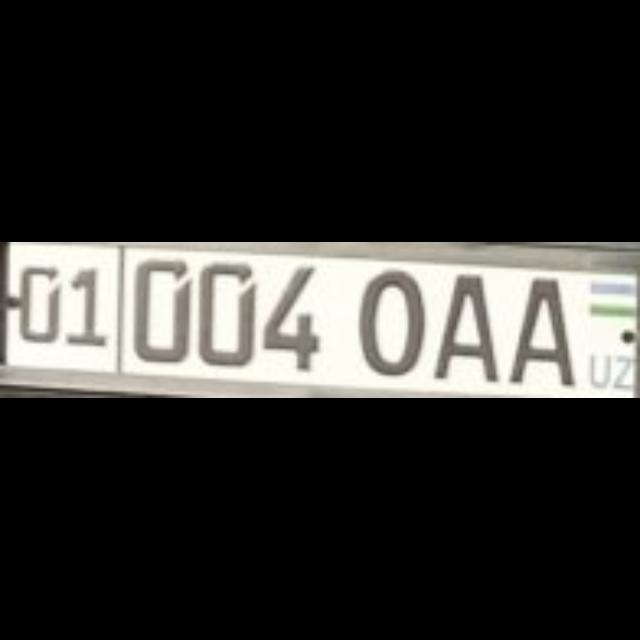0: (192, 259, 252, 363), (128, 256, 186, 356), (13, 262, 55, 340)
1: (62, 262, 101, 340)
4: (258, 261, 316, 369)
A: (502, 272, 572, 382), (432, 271, 496, 379)
O: (352, 265, 422, 373)
